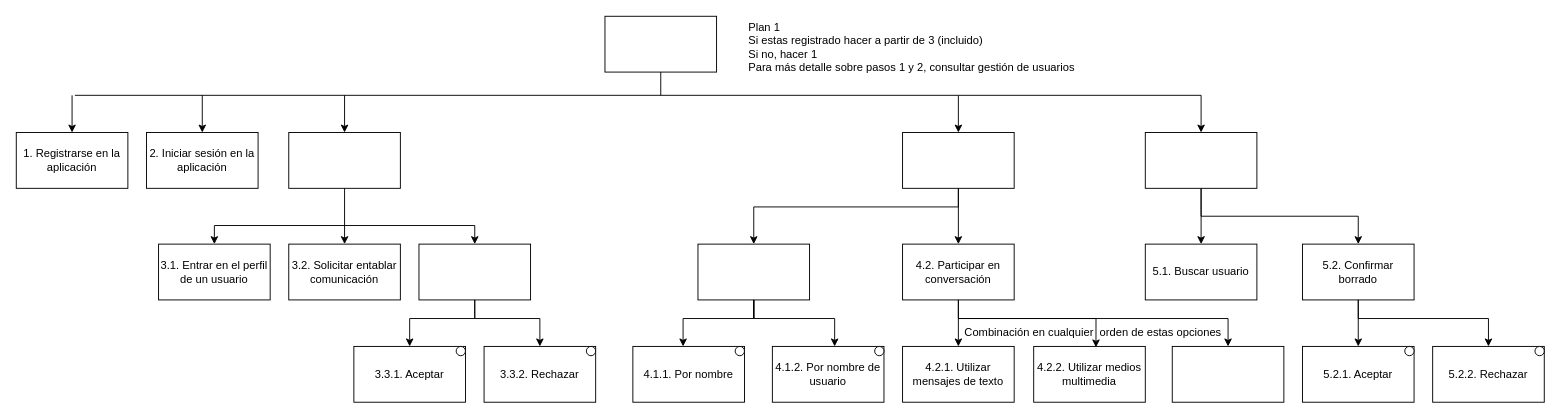
Some shapes in this 1561 by 419 pixel diagram are drawn without their labels. Here are the shapes that lost their labels. From the top down, the centre of each, then its label:
At point 660,43: "0. Gestión de comunicaciones".
At point 344,160: "3. Iniciar una conversación".
At point 958,160: "4.2. Entablar una conversación".
At point 1200,160: "5. Eliminar una conversación".
At point 474,271: "3.3. Resolver solicitud de comunicación".
At point 753,271: "4.1. Buscar usuario".
At point 1227,373: "4.2.3. Utilizar llamadas o videollamadas".
